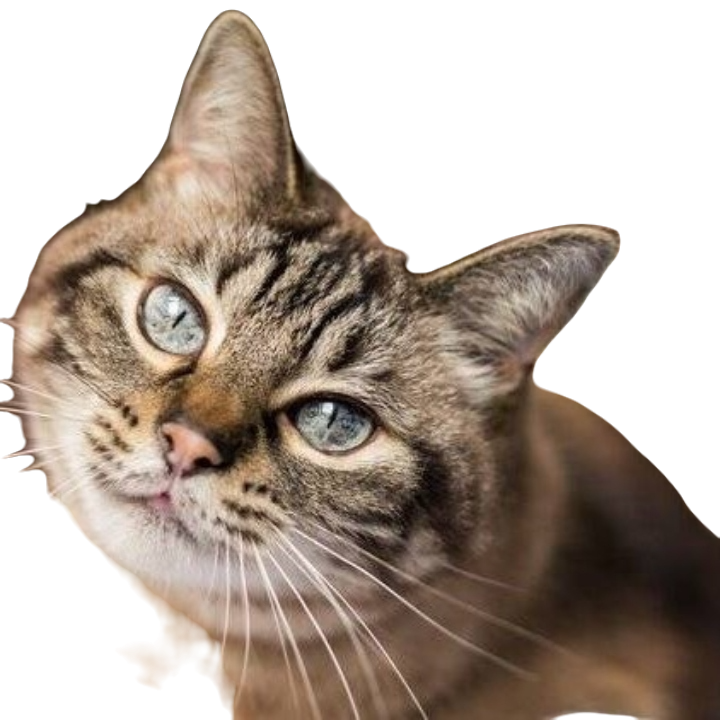Cat: (0, 7, 719, 719)
